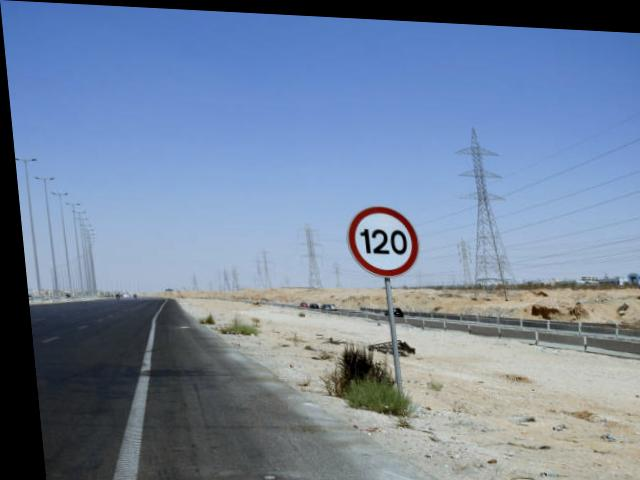limit120: (342, 201, 418, 273)
